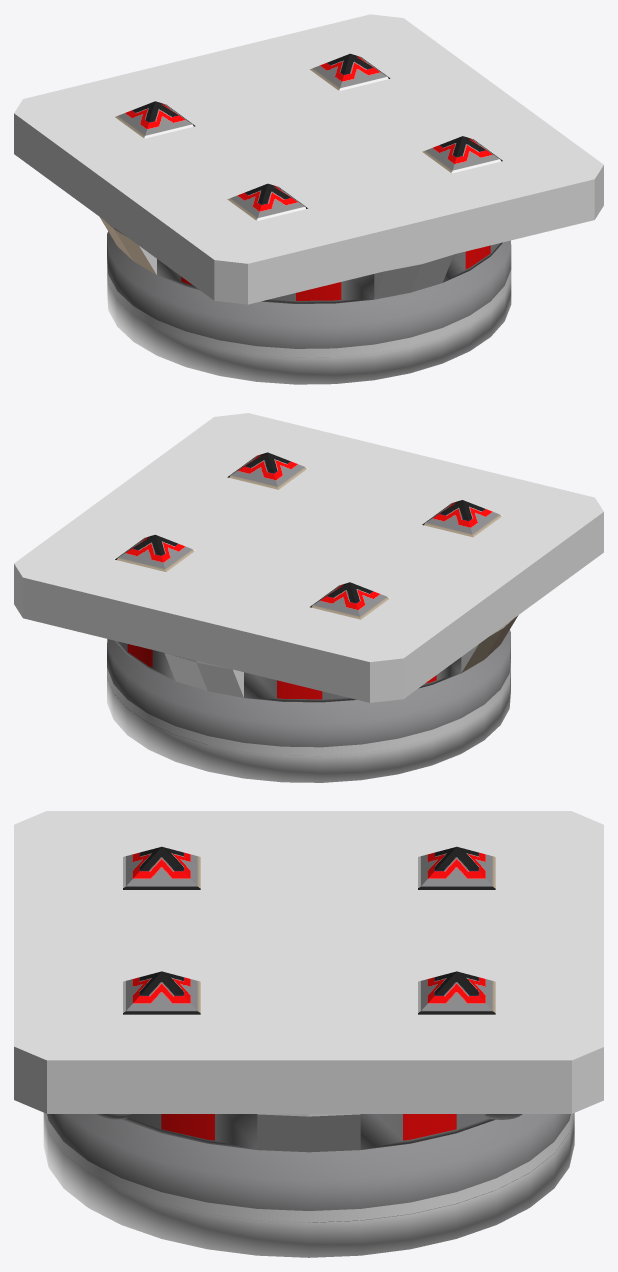
Rendered from HS Medium Hover Collider.obj.
3 views of the same model, one above another, from view 1: azimuth 30°, elevation 25°; view 2: azimuth 150°, elevation 25°; view 3: azimuth 270°, elevation 25° (orthographic). The views are drawn at different scales.
Parts seen in each view (by area): view 1: HS_Medium_Hover_Base_Cube, HS_Medium_Hover_Hoverpad_Cylinder.001; view 2: HS_Medium_Hover_Base_Cube, HS_Medium_Hover_Hoverpad_Cylinder.001; view 3: HS_Medium_Hover_Base_Cube, HS_Medium_Hover_Hoverpad_Cylinder.001.
Boxes of the visible parts, x1,y1,x2,y2 form: HS_Medium_Hover_Base_Cube: (14, 14, 603, 304); HS_Medium_Hover_Hoverpad_Cylinder.001: (107, 231, 511, 384); HS_Medium_Hover_Base_Cube: (14, 413, 603, 702); HS_Medium_Hover_Hoverpad_Cylinder.001: (107, 630, 510, 782); HS_Medium_Hover_Base_Cube: (14, 811, 603, 1152); HS_Medium_Hover_Hoverpad_Cylinder.001: (43, 1113, 574, 1257).
Size of the model in its own units: 2 by 0.885 by 2.
